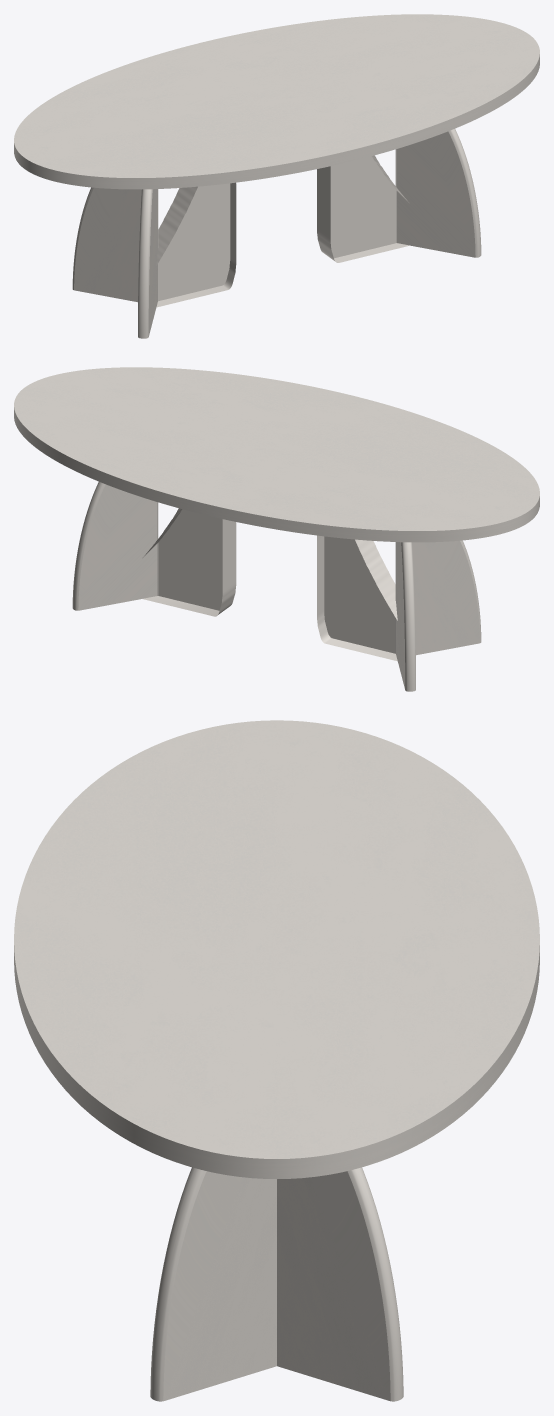
The model's file is pearlwhite_ellips_standard_plane.glb.
3 views of the same model, one above another, from view 1: azimuth 30°, elevation 25°; view 2: azimuth 150°, elevation 25°; view 3: azimuth 270°, elevation 25° (orthographic). The views are drawn at different scales.
Visible parts, largest first — view 1: standard_ellips, plane_singleright2, plane_single1, plane_single2, plane_singleleft1, plane_singleright1; view 2: standard_ellips, plane_singleleft2, plane_single1, plane_single2, plane_singleright1, plane_singleleft1; view 3: standard_ellips, plane_singleleft2, plane_singleright2.
Part boxes in pixels (<box>): standard_ellips: <box>14,14,539,189</box>; plane_singleright2: <box>395,129,481,257</box>; plane_single1: <box>156,182,236,307</box>; plane_single2: <box>317,155,409,262</box>; plane_singleleft1: <box>72,187,158,302</box>; plane_singleright1: <box>138,189,157,338</box>; standard_ellips: <box>14,367,539,542</box>; plane_singleleft2: <box>72,482,158,610</box>; plane_single1: <box>317,535,397,661</box>; plane_single2: <box>142,508,236,616</box>; plane_singleright1: <box>395,540,481,655</box>; plane_singleleft1: <box>396,542,415,691</box>; standard_ellips: <box>14,720,539,1178</box>; plane_singleleft2: <box>277,1167,403,1401</box>; plane_singleright2: <box>150,1167,276,1401</box>.
Bounding box in the file's own units: 7.5 × 2.5 × 3.8.
1 material, 1 textured.
